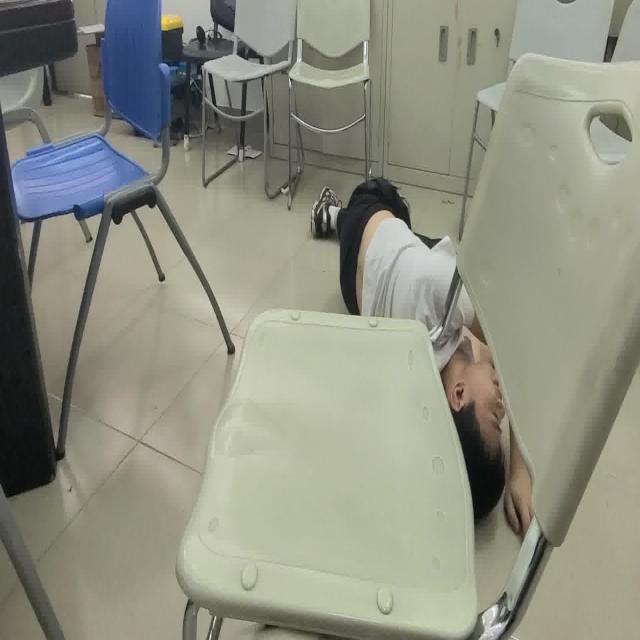Fall-Detected: (309, 172, 541, 545)
